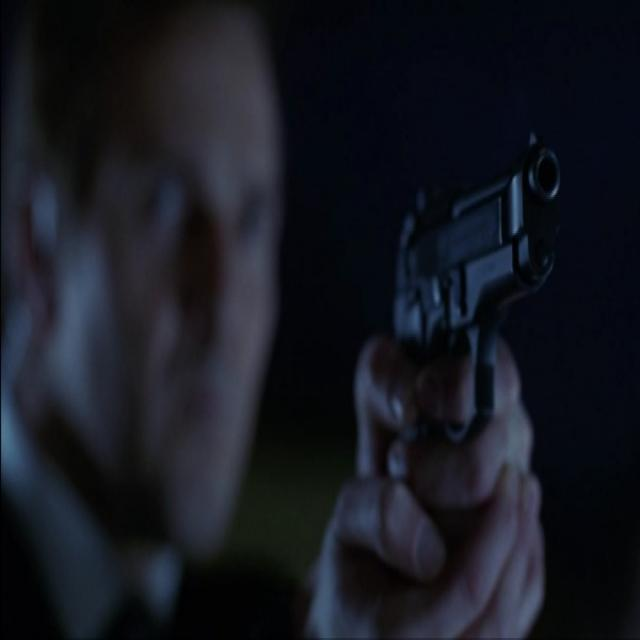weapons: (369, 124, 573, 526)
